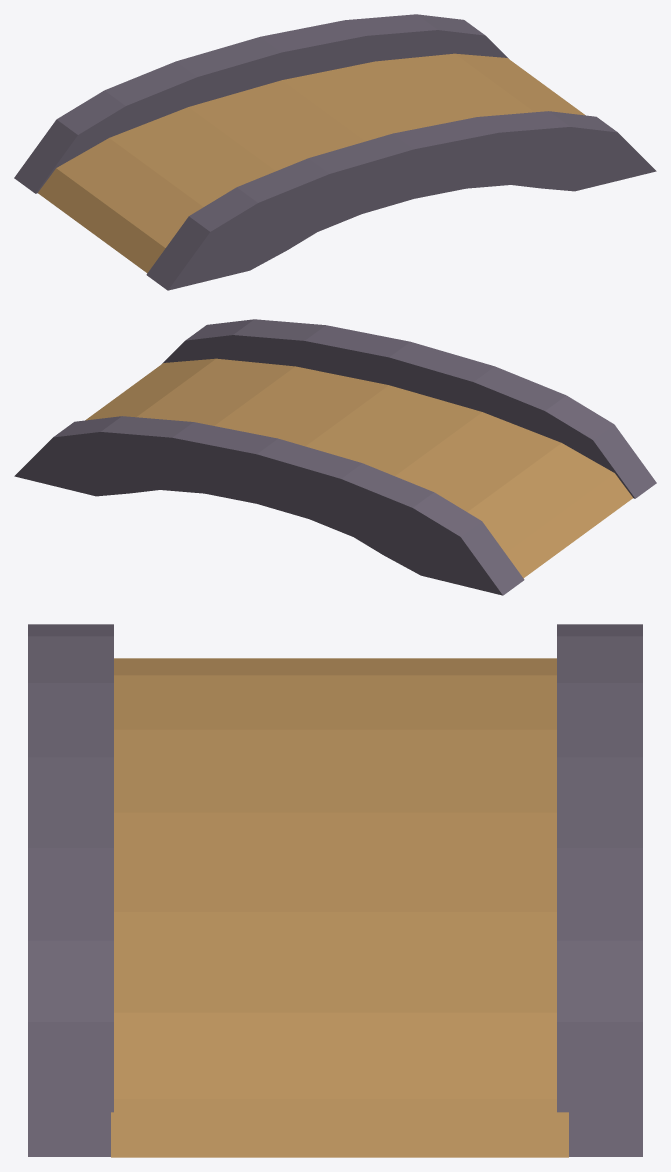
Rendered from bridge.fbx.
3 renders of one model, top to bottom at view 1: azimuth 30°, elevation 25°; view 2: azimuth 150°, elevation 25°; view 3: azimuth 270°, elevation 25°, orthographic. The views are drawn at different scales.
Parts seen in each view (by area): view 1: Cylinder.001; view 2: Cylinder.001; view 3: Cylinder.001.
Part boxes in pixels (x1,y1,x2,y2): Cylinder.001: (14, 14, 656, 290); Cylinder.001: (14, 319, 656, 595); Cylinder.001: (28, 624, 642, 1157).
Size of the model in its own units: 495 by 81.95 by 269.
